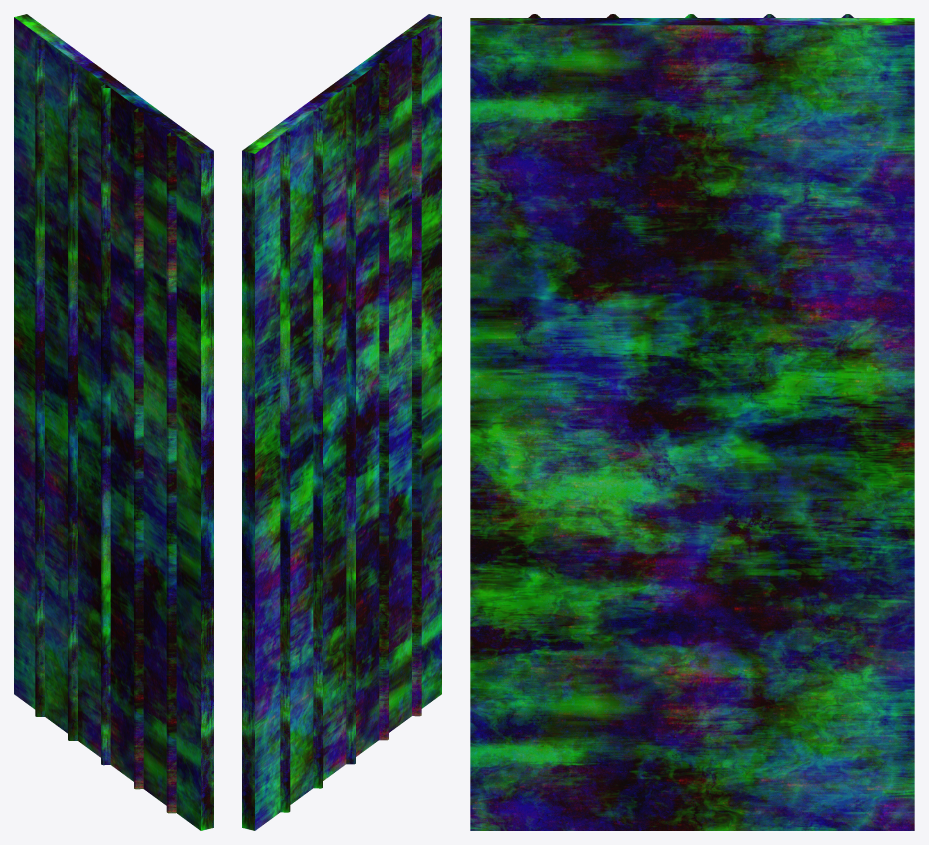
The model's file is SM_CaptainWall_250.fbx.
3 renders of one model, left to right at view 1: azimuth 30°, elevation 25°; view 2: azimuth 150°, elevation 25°; view 3: azimuth 270°, elevation 25°, orthographic. The views are drawn at different scales.
Visible parts, largest first — view 1: SM_CaptainWall_250_LOD0; view 2: SM_CaptainWall_250_LOD0; view 3: SM_CaptainWall_250_LOD0.
Boxes of the visible parts, x1,y1,x2,y2 form: SM_CaptainWall_250_LOD0: [14, 14, 213, 830]; SM_CaptainWall_250_LOD0: [242, 14, 441, 830]; SM_CaptainWall_250_LOD0: [470, 14, 914, 830].
Bounding box in the file's own units: 15.2 × 250 × 500.
Materials: 1 (1 with a texture image).
